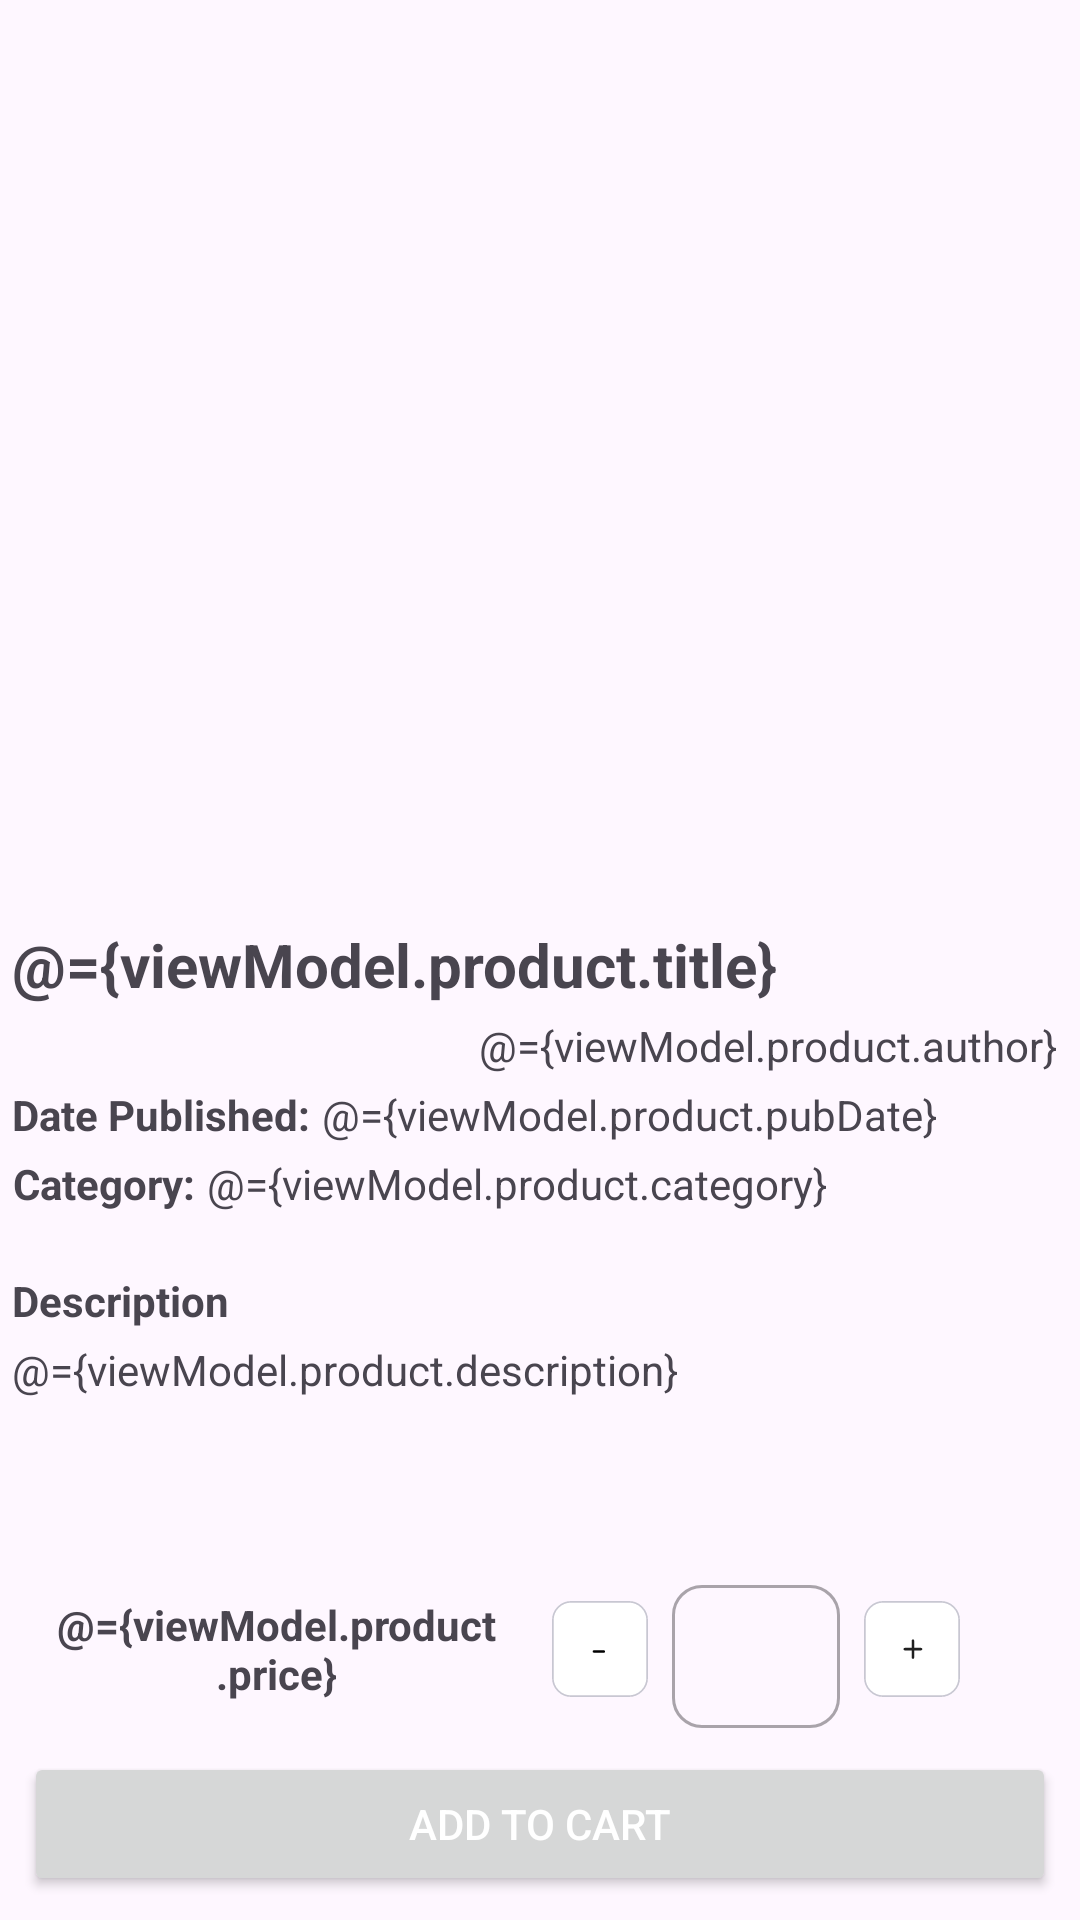

Screen size 1080 × 1920. Icon name, then its box in pixels as Rect(x1, y1, x2, y2):
Decrease: Rect(552, 1601, 648, 1697)
Increase: Rect(864, 1601, 960, 1697)
